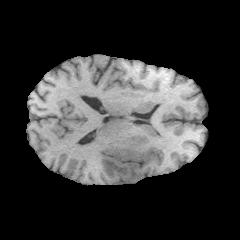glioma: (100, 150, 149, 182)
